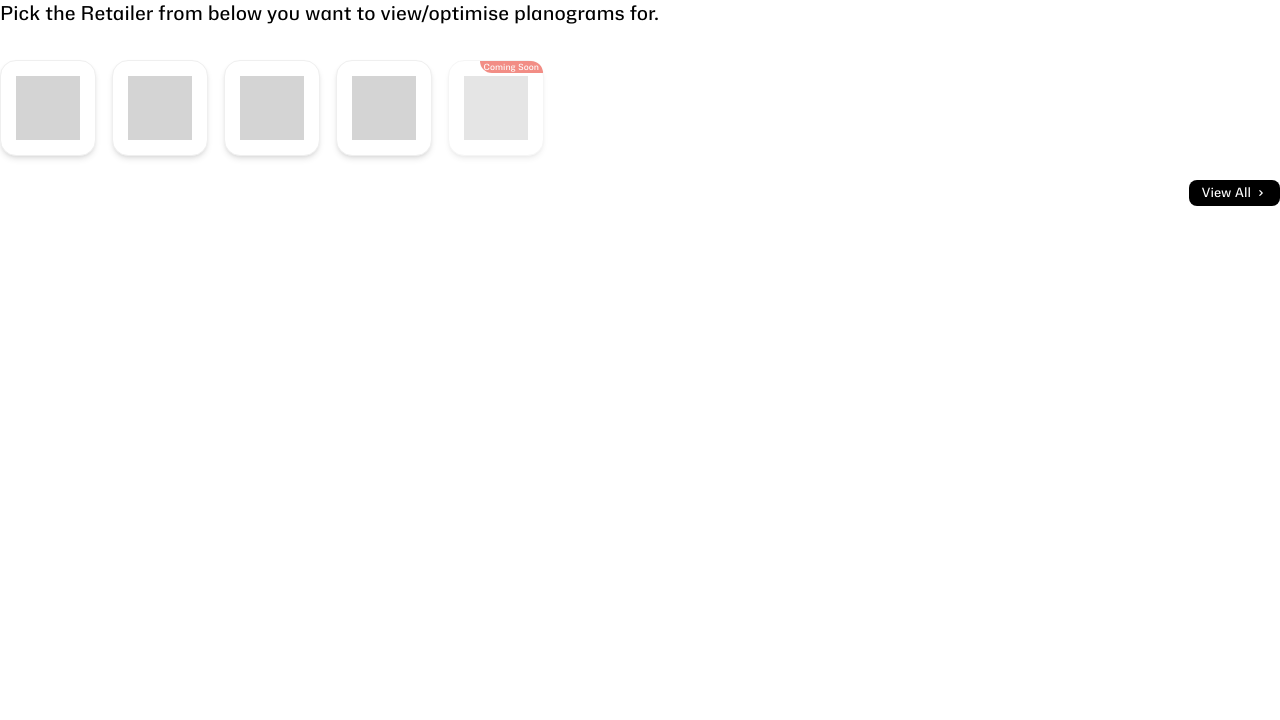
Test: RetailerSelector › Modal Functionality › shows correct region name in modal header
Click the button with aria-label "view all retailers in emea" at (1234, 193), box [1189,180,1279,206]
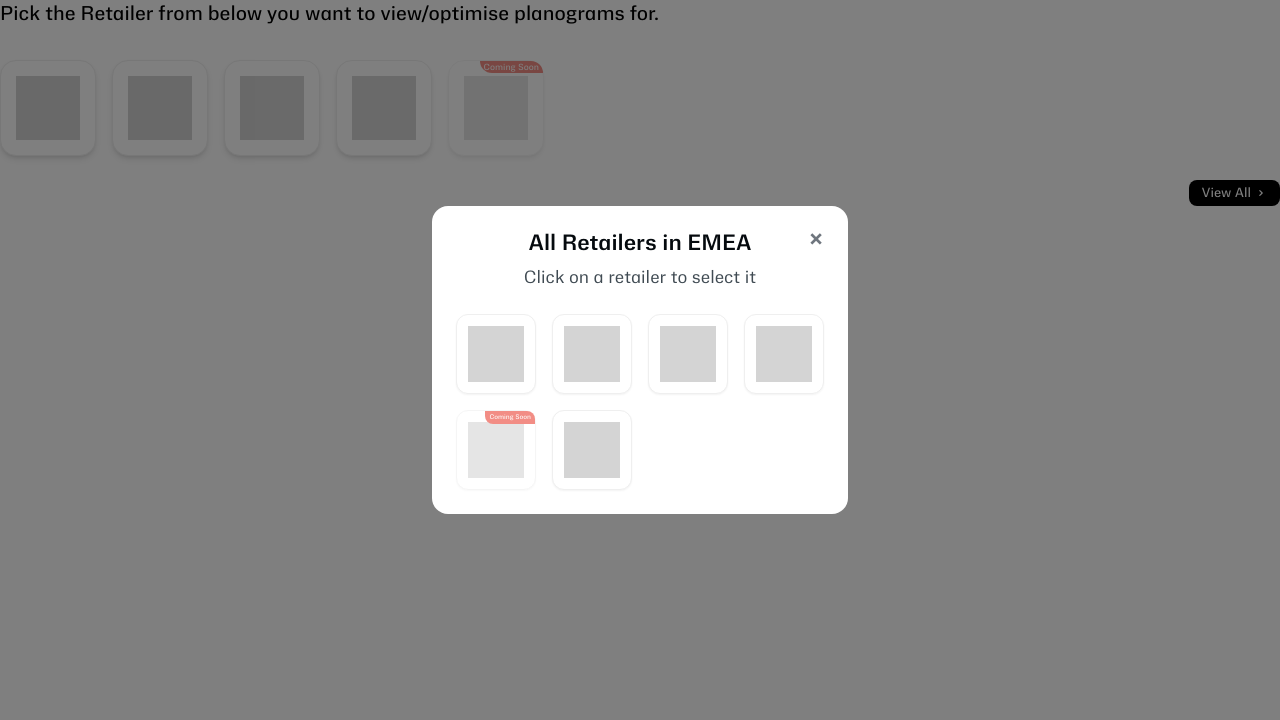
Check: the heading "All Retailers in EMEA" is shown, box [528,234,752,254]
